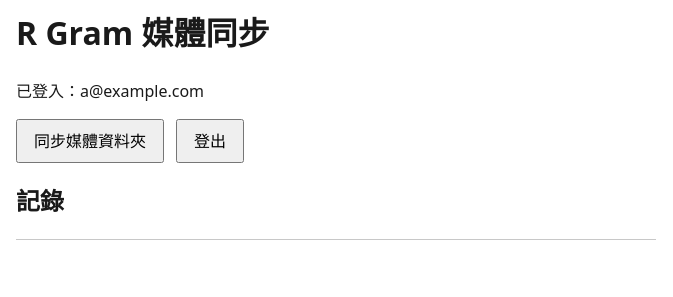
it: App › should say when signing out fails
The image size is (673, 297).
Click the button "登出": (210, 141) [176,119,244,163]
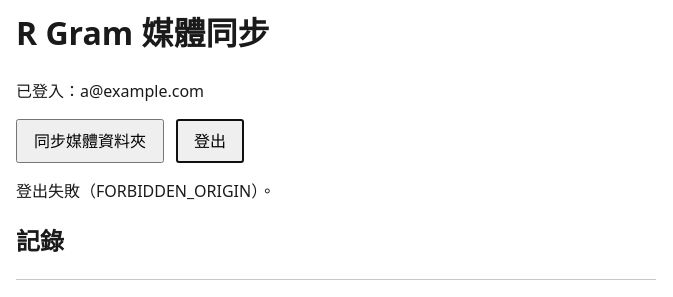
Check: the text "登出失敗（FORBIDDEN_ORIGIN）。" is shown, box [16,180,275,202]
